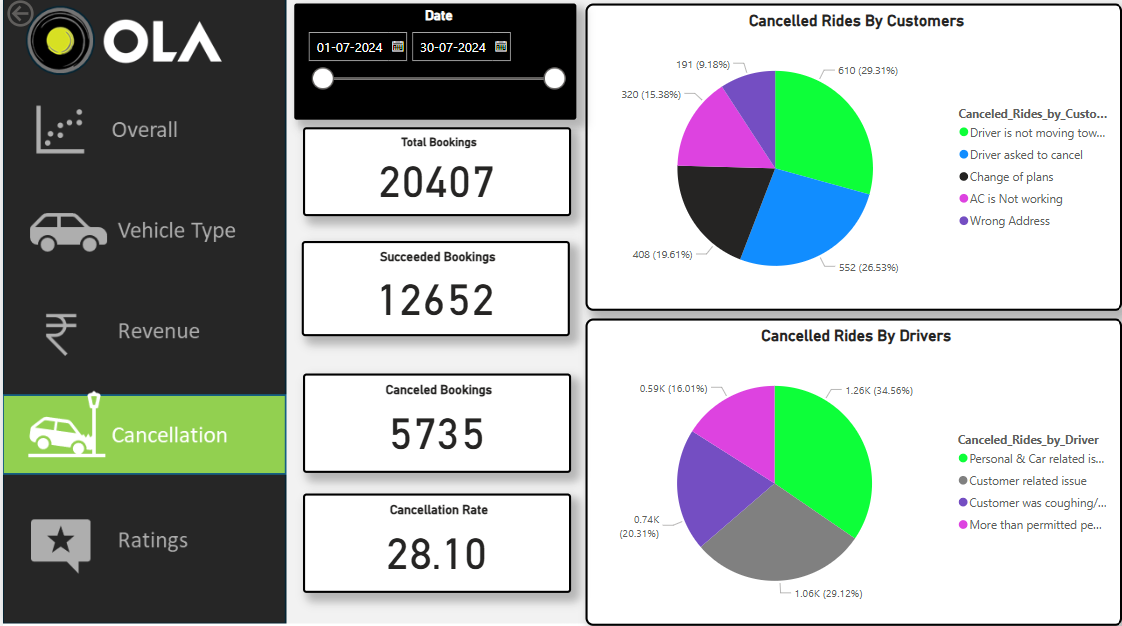

This screenshot's page, from the dashboard's own definition file:
{"tool":"powerbi","page":{"name":"Cancellation","canvas":[1280,720],"ordinal":3},"visuals":[{"type":"actionButton","box":[0,223.2,323.3,86.9],"z":0},{"type":"actionButton","box":[0,345,323.3,86.9],"z":1000},{"type":"actionButton","box":[0,580.3,323.3,86.9],"z":2000},{"type":"pieChart","title":"Cancelled Rides By Customers","fields":{"Category":["July.Canceled_Rides_by_Customer"],"Y":["CountNonNull(July.Canceled_Rides_by_Customer)"]},"box":[665.5,8.2,614.8,351.3],"z":3000},{"type":"pieChart","title":"Cancelled Rides By Drivers","fields":{"Category":["July.Canceled_Rides_by_Driver"],"Y":["CountNonNull(July.Canceled_Rides_by_Customer)"]},"box":[666,369.2,614.1,351.1],"z":4000},{"type":"slicer","title":"Date","fields":{"Values":["July.Date"]},"box":[333.4,19.2,322.5,122.1],"z":4001},{"type":"card","title":"Total Bookings","fields":{"Values":["CountNonNull(July.Booking_ID)"]},"box":[334.8,155.1,306,97.4],"z":4002},{"type":"card","title":"Succeeded Bookings","fields":{"Values":["CountNonNull(July.Booking_ID)"]},"box":[334.8,262.1,306,97.4],"z":4003},{"type":"card","title":"Canceled Bookings","fields":{"Values":["CountNonNull(July.Booking_ID)"]},"box":[334.3,359.7,306,98.5],"z":4004},{"type":"card","title":"Cancellation Rate","fields":{"Values":["July.CancelledPercentage"]},"box":[340.3,470.1,306,98.5],"z":4005}]}

Visuals, with their boxes on the page's 1280x720 design canvas (x1, y1, x2, y2). These are canvas units, not pixel positions in the 1122x626 screenshot, which may show the page scaled, cropped or inside an application window:
actionButton: 0, 223, 323, 310
actionButton: 0, 345, 323, 432
actionButton: 0, 580, 323, 667
"Cancelled Rides By Customers" pieChart: 666, 8, 1280, 360
"Cancelled Rides By Drivers" pieChart: 666, 369, 1280, 720
"Date" slicer: 333, 19, 656, 141
"Total Bookings" card: 335, 155, 641, 252
"Succeeded Bookings" card: 335, 262, 641, 360
"Canceled Bookings" card: 334, 360, 640, 458
"Cancellation Rate" card: 340, 470, 646, 569
